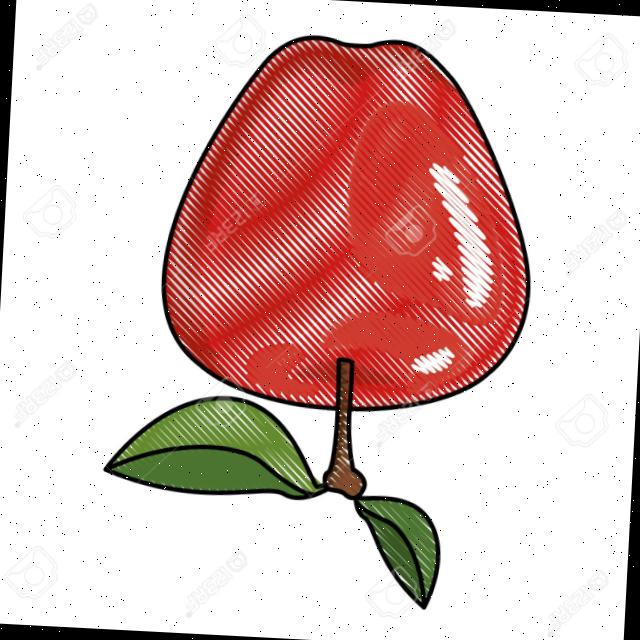Apel: (156, 29, 543, 422)
